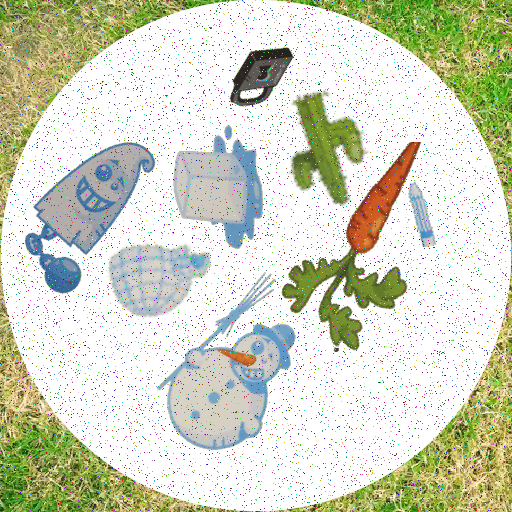cactus_icon: (265, 84, 389, 208)
carrot_icon: (243, 142, 453, 352)
cube_icon: (145, 121, 280, 256)
ghost_icon: (1, 121, 179, 299)
igloo_icon: (108, 219, 215, 326)
lock_icon: (225, 39, 299, 113)
pen_icon: (389, 182, 454, 247)
snowman_icon: (139, 269, 321, 451)
